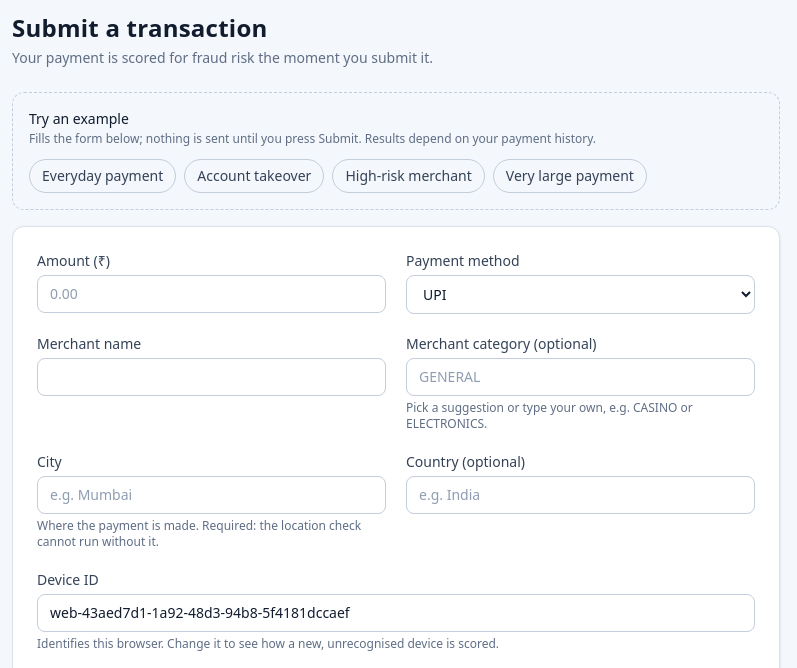
scenario presets (R4-03) › fill the form without submitting; the takeover uses a new device and a new city
The image size is (797, 668).
In the field labelled "City": (212, 495) [37, 476, 386, 514], type "Pune"
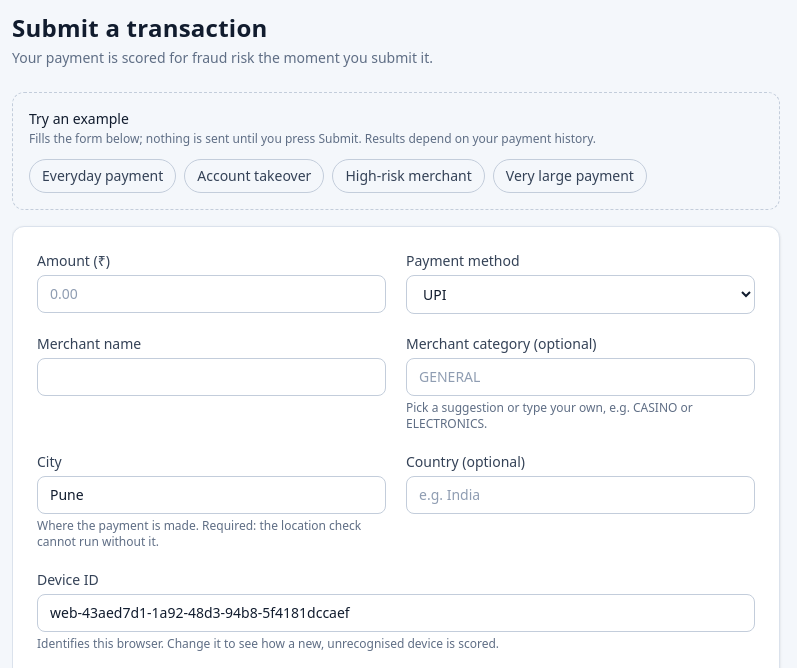
Click the button "High-risk merchant": (409, 176) [332, 159, 485, 193]
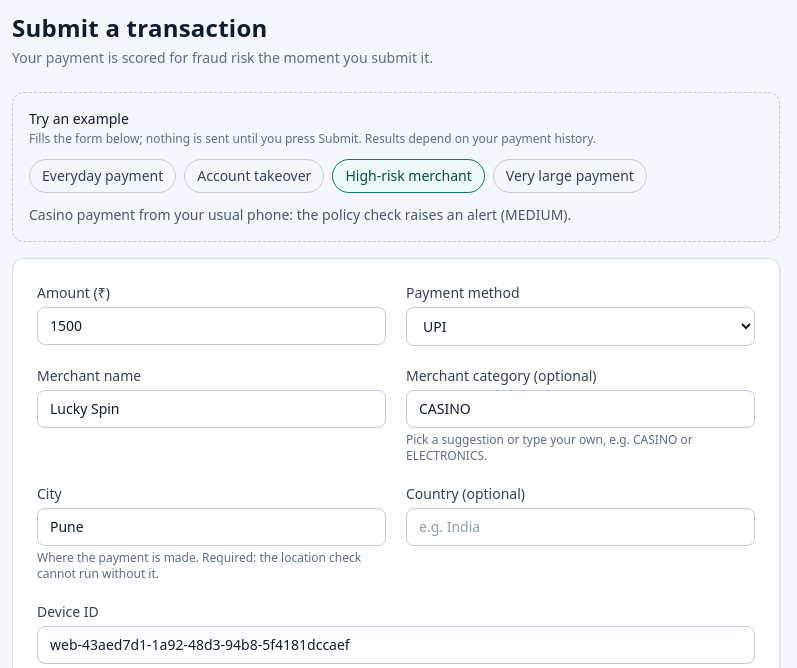
Now the field labelled "Merchant name" holds "Lucky Spin", box [37, 390, 386, 428]
Now the field labelled "Merchant category (optional)" holds "CASINO", box [406, 390, 755, 428]
Now the text "the policy check raises an alert" is shown, box [29, 205, 571, 224]
Click the button "Account takeover": (254, 176) [184, 159, 324, 193]
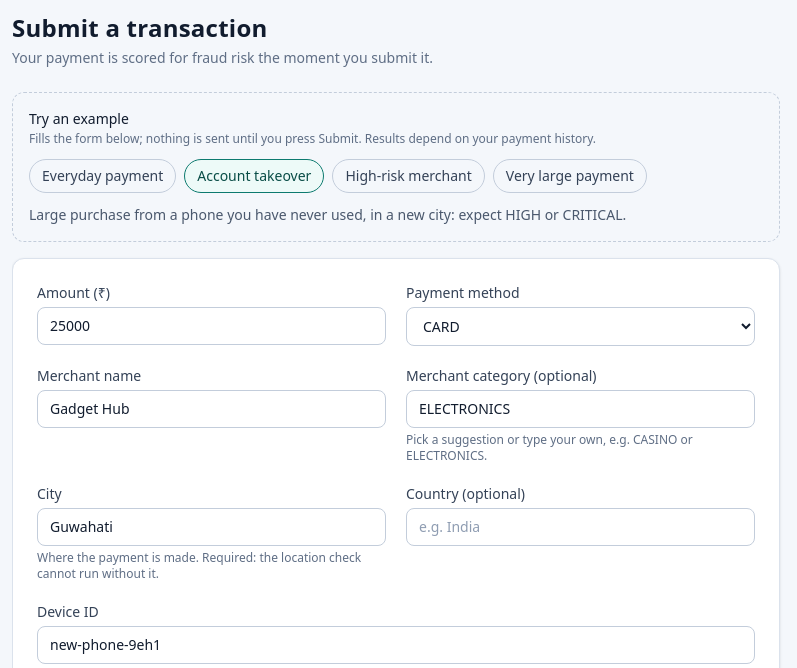
Now the number field labelled "Amount (₹)" holds "25000", box [37, 307, 386, 345]
Now the field labelled "City" holds "Guwahati", box [37, 508, 386, 546]
